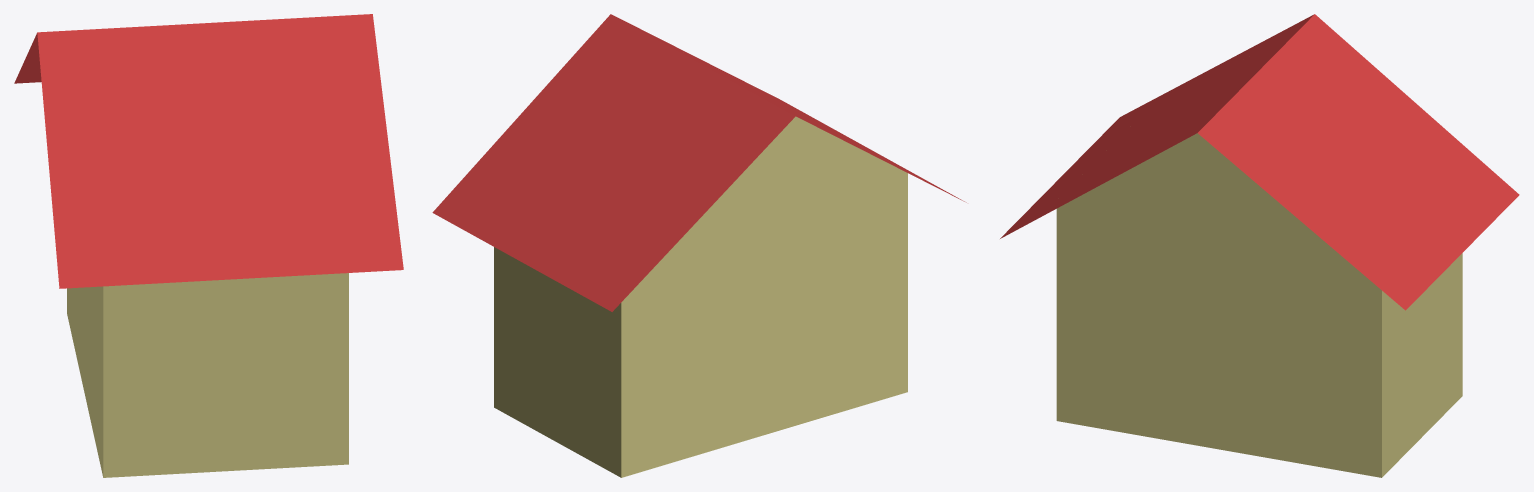
The picture shows the model from 3 angles, left to right: view 1: azimuth 30°, elevation 25°; view 2: azimuth 150°, elevation 25°; view 3: azimuth 270°, elevation 25°; orthographic projection. The views are drawn at different scales.
Bounding box in the file's own units: 15.6 × 17.75 × 12.52.
